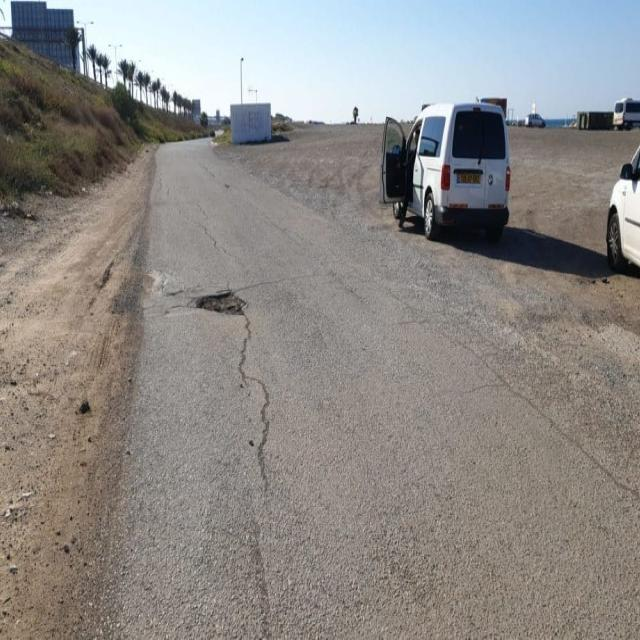major_pothole: (195, 286, 247, 315)
